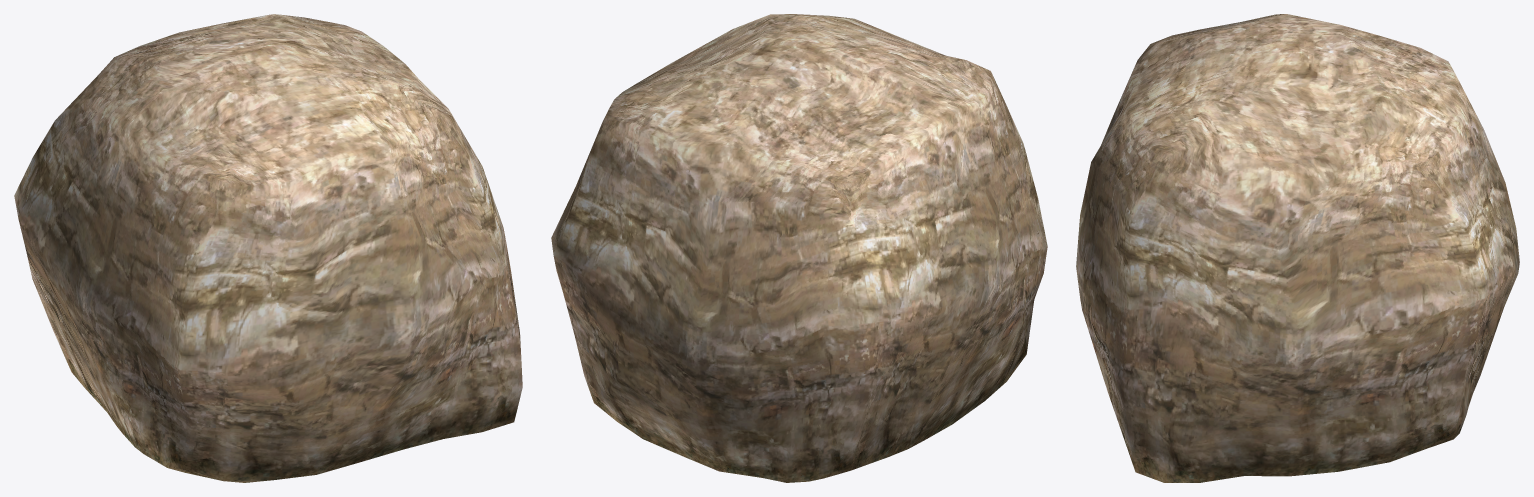
The model's file is thm_all_cavewall_a1_l0.fbx.
The picture shows the model from 3 angles, left to right: view 1: azimuth 30°, elevation 25°; view 2: azimuth 150°, elevation 25°; view 3: azimuth 270°, elevation 25°; orthographic projection. The views are drawn at different scales.
Parts seen in each view (by area): view 1: mesh_node; view 2: mesh_node; view 3: mesh_node.
Boxes of the visible parts, x1,y1,x2,y2 form: mesh_node: (14, 14, 522, 482); mesh_node: (551, 14, 1047, 482); mesh_node: (1076, 14, 1519, 482).
Size of the model in its own units: 11.24 by 10.79 by 11.11.
